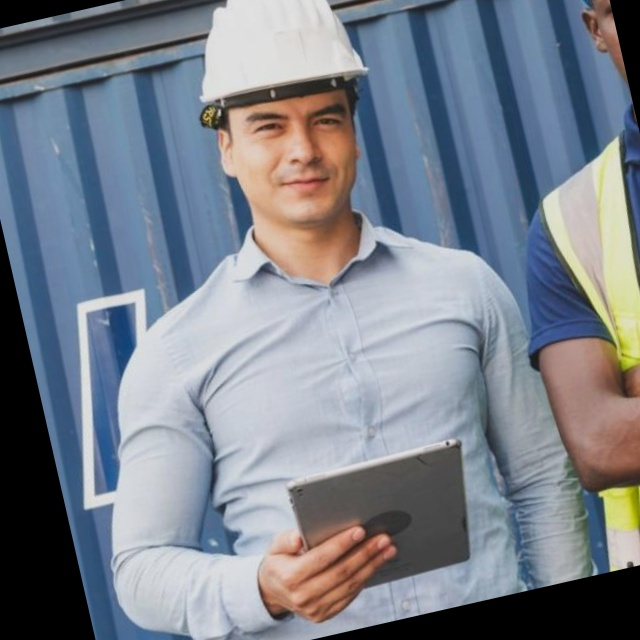Con_Casco: (177, 0, 401, 234)
Sin_Chaleco: (95, 188, 583, 640)
